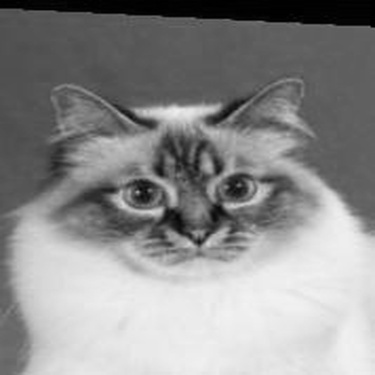cat: (13, 68, 334, 364)
